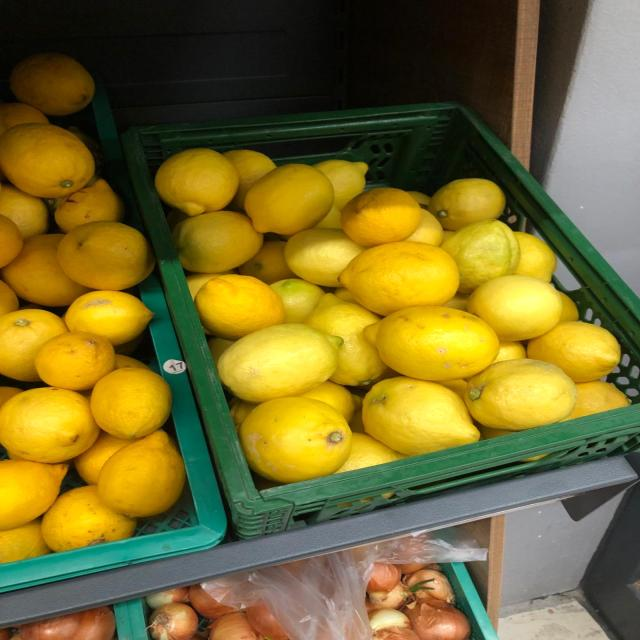lemon: (220, 391, 353, 485), (208, 320, 351, 406), (360, 302, 504, 386), (328, 236, 472, 316), (46, 215, 162, 298), (240, 154, 341, 243), (79, 361, 181, 444), (143, 143, 248, 215), (421, 175, 523, 232)
onion: (137, 599, 204, 640)
